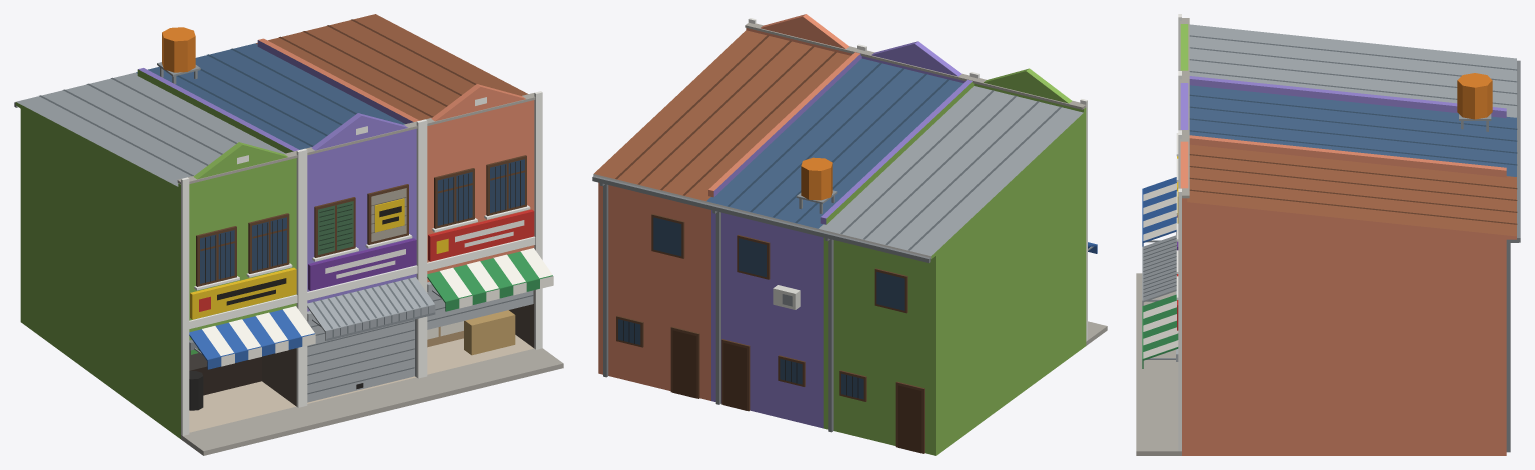
The model's file is ruko_06.glb.
The picture shows the model from 3 angles, left to right: view 1: azimuth 30°, elevation 25°; view 2: azimuth 150°, elevation 25°; view 3: azimuth 270°, elevation 25°; orthographic projection. The views are drawn at different scales.
Visible parts, largest first — view 1: ruko_06; view 2: ruko_06; view 3: ruko_06.
Part boxes in pixels (box(x1,y1,x2,y2)): ruko_06: box(14, 14, 563, 455); ruko_06: box(592, 14, 1107, 455); ruko_06: box(1136, 14, 1520, 455).
Size of the model in its own units: 12 by 8.93 by 10.95.
